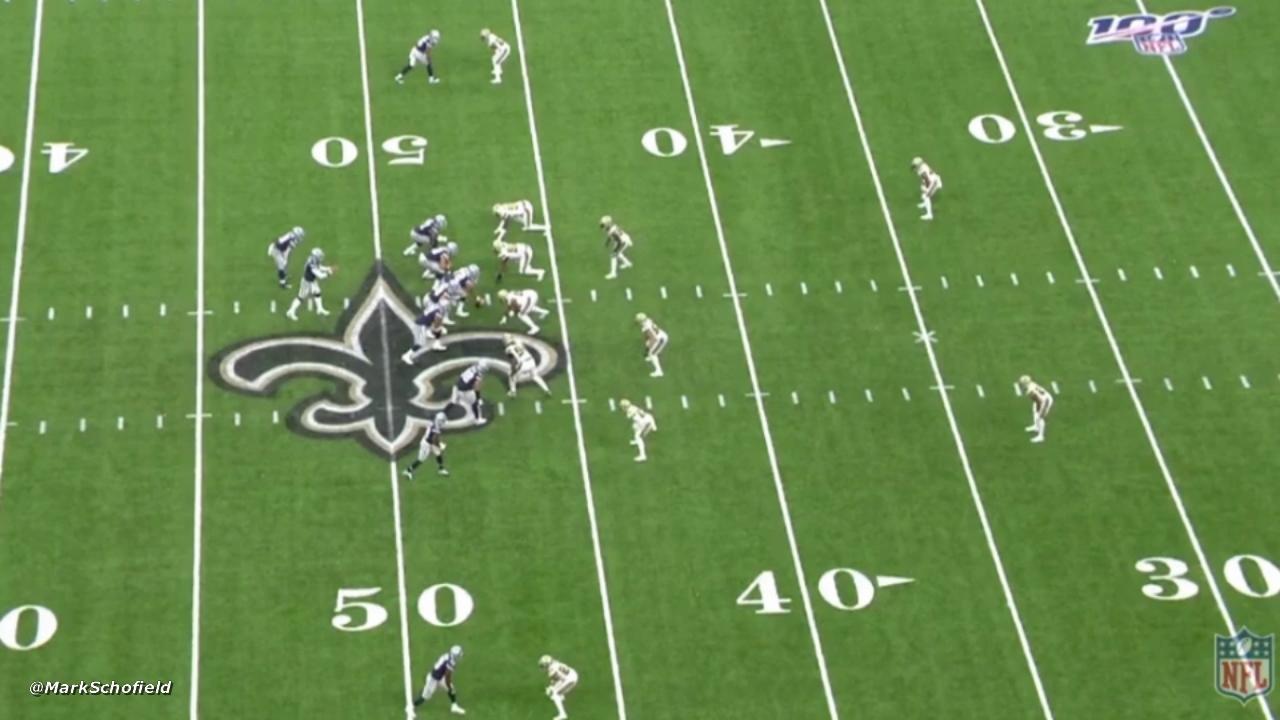player: (404, 641, 470, 719), (433, 358, 490, 429), (285, 248, 337, 324), (403, 407, 454, 482), (401, 296, 453, 366), (392, 26, 446, 89), (506, 334, 557, 399), (1017, 373, 1058, 448), (539, 651, 583, 719), (617, 397, 659, 465), (599, 213, 639, 283), (494, 289, 550, 339), (631, 310, 670, 380), (267, 223, 308, 289), (908, 156, 946, 227), (491, 242, 551, 286), (488, 197, 547, 240), (445, 261, 491, 314), (404, 213, 451, 261), (477, 25, 512, 88), (422, 277, 460, 335), (420, 241, 460, 290)
